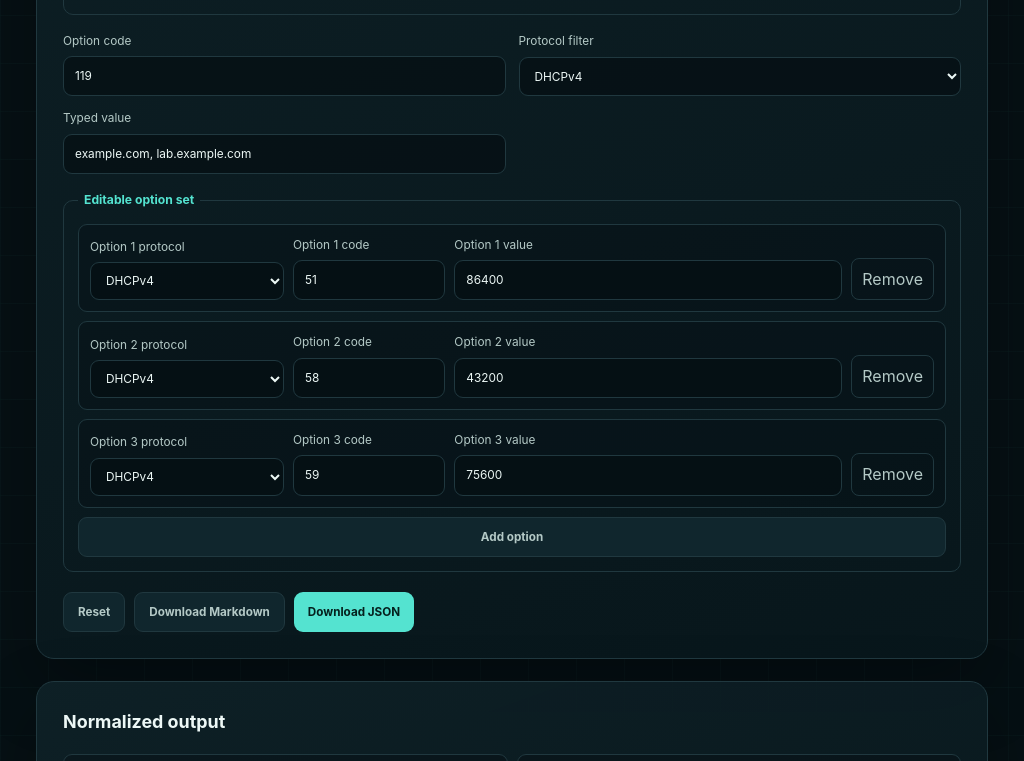
Scenario: DHCPulse Workbench › validates a type-aware editable option set for duplicates and timing relationships
This screenshot has width=1024, height=761.
(page scrolled)
Step 1. Replace the text in the number field labelled "Option 2 code" with "51" → point(369, 378), box [293, 358, 445, 398]
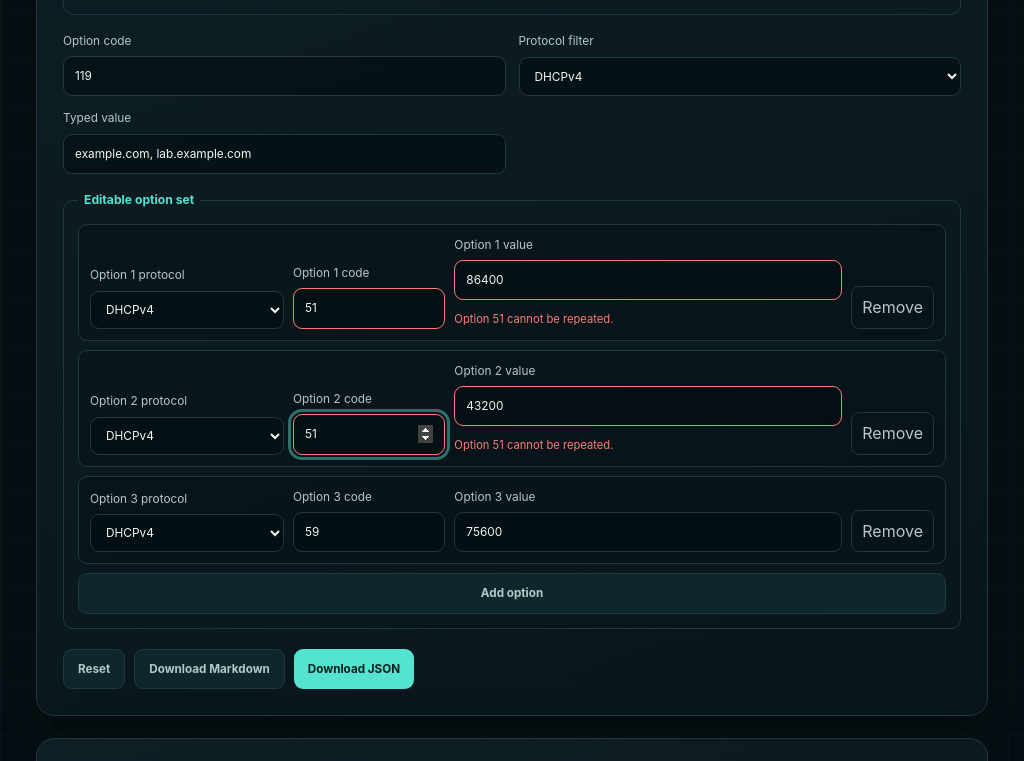
Expected: the text "Option 51 cannot be repeated." below "Option 1 value" is shown, [454, 312, 614, 326]
Step 2. Clear the number field labelled "Option 2 code" → point(369, 435), box [293, 414, 445, 455]
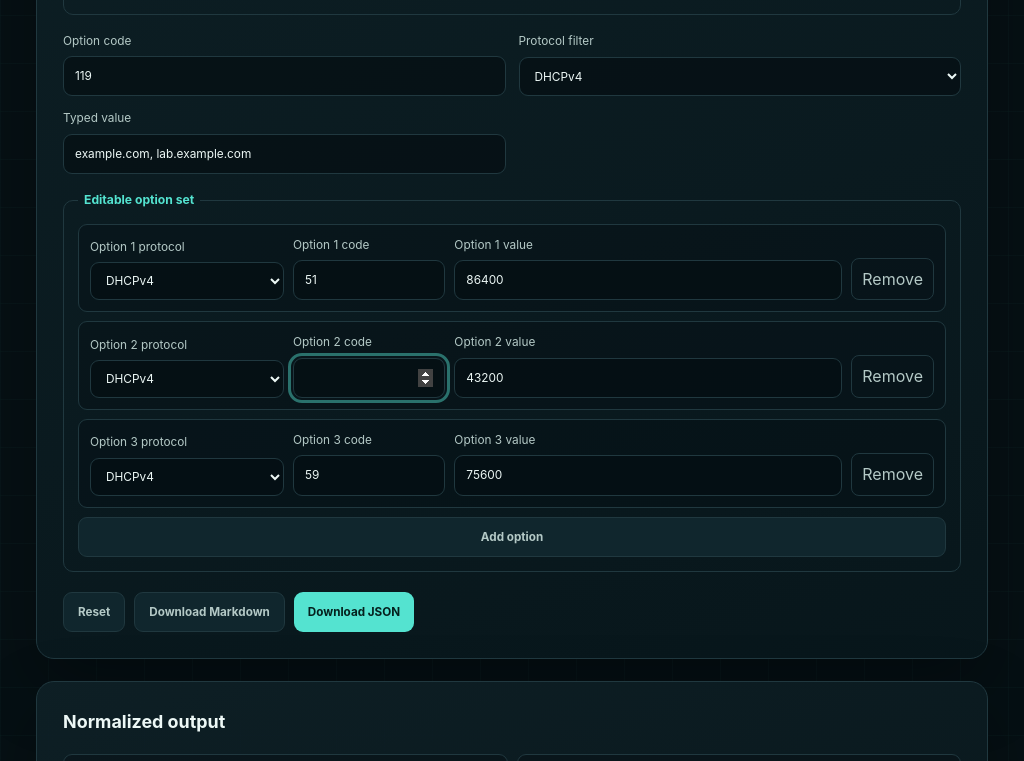
Step 3. Type "58" into the number field labelled "Option 2 code" → point(369, 378), box [293, 358, 445, 398]
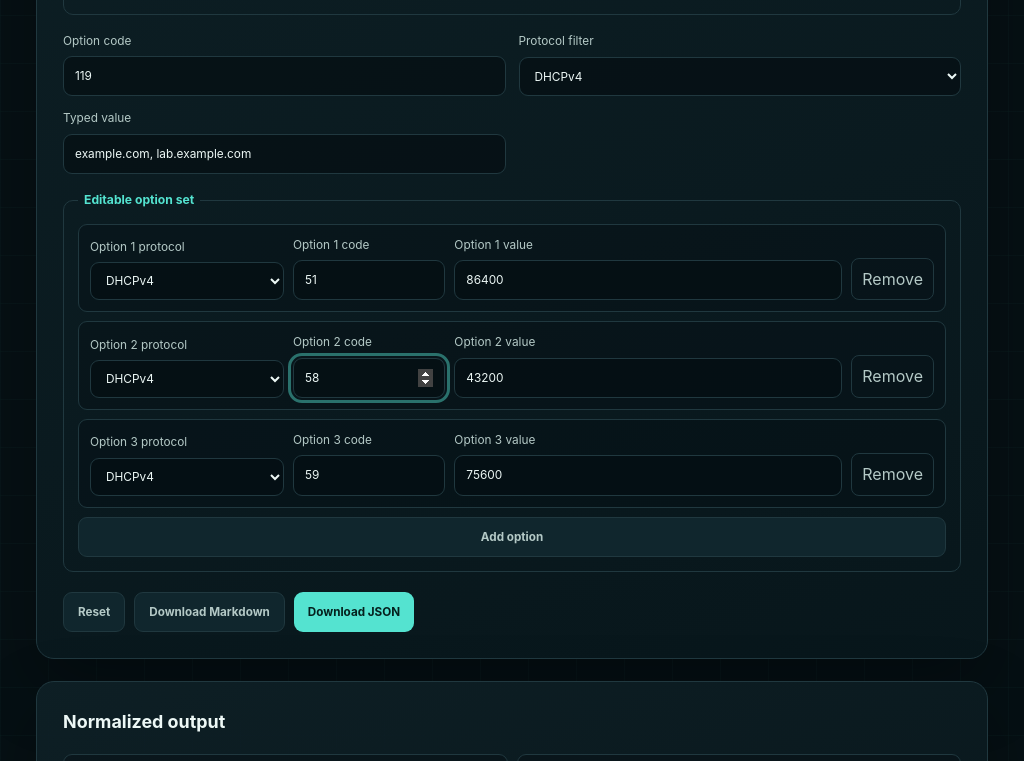
Step 4. Replace the text in the number field labelled "Option 2 value" with "80000" → point(648, 378), box [454, 358, 842, 398]
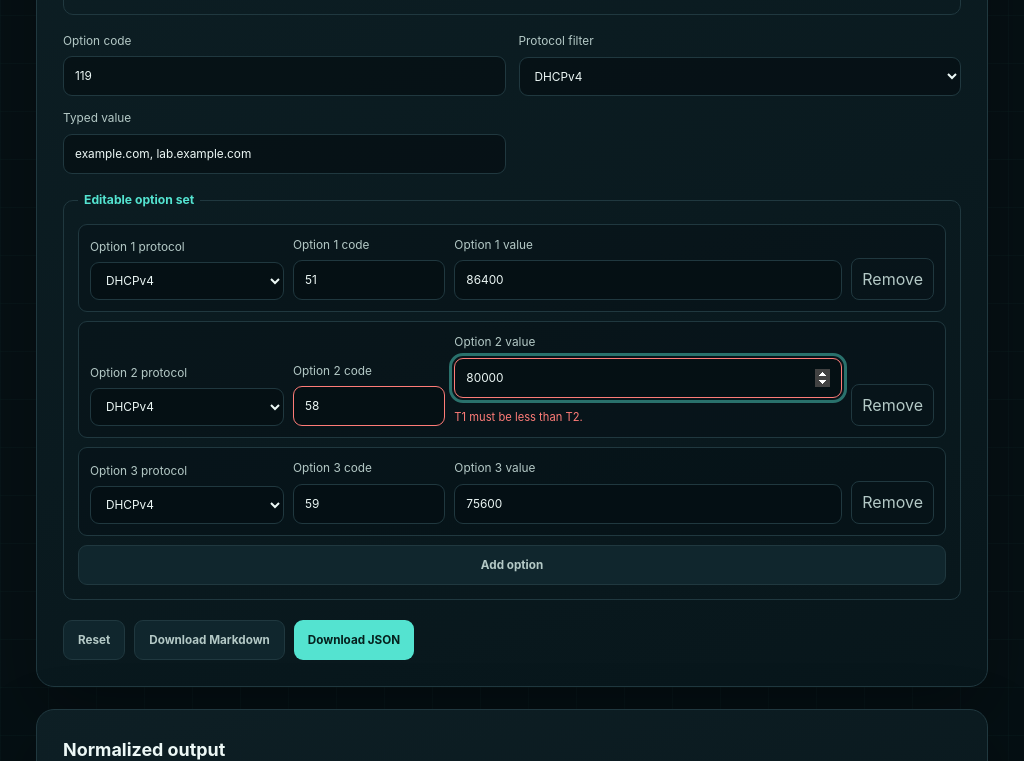
Expected: the text "T1 must be less than T2." is shown, [454, 410, 583, 424]
